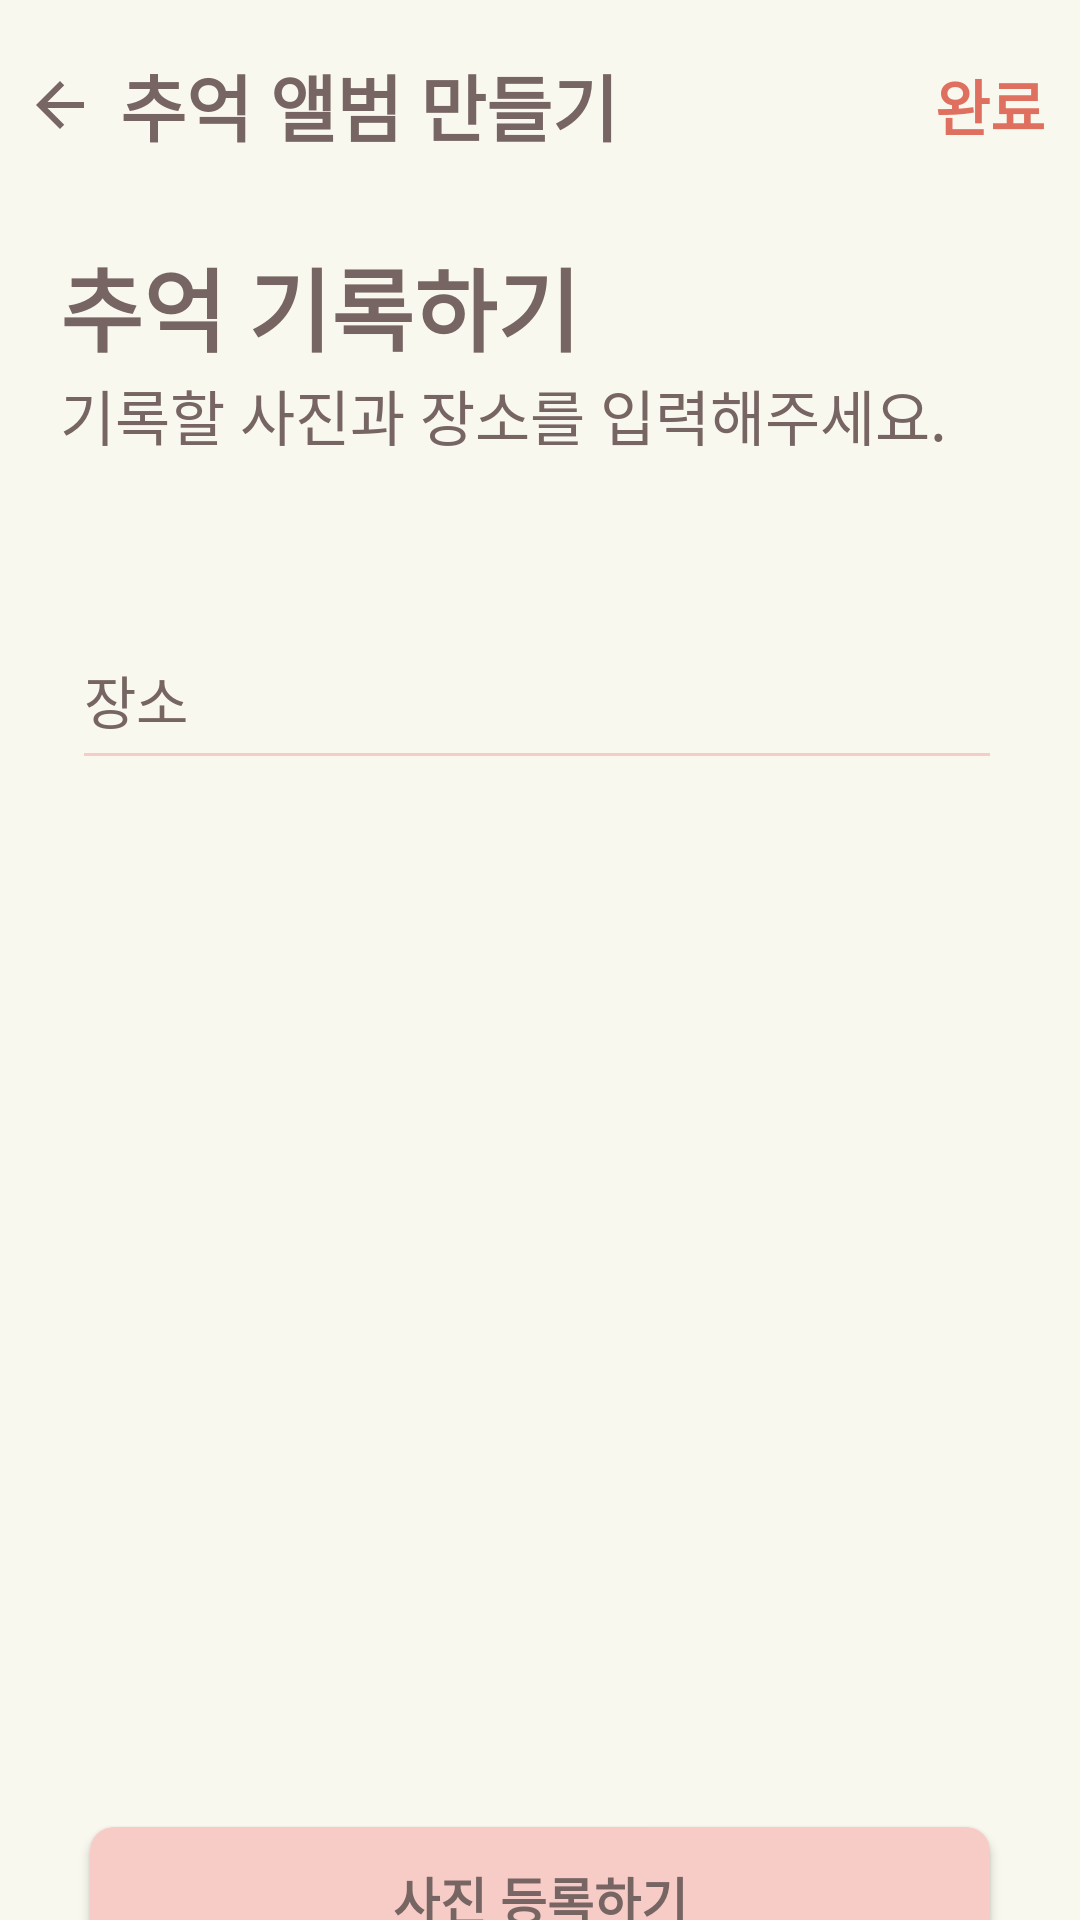

Locate icon controls on the screen. Image size 1080x1920, boxes as (x1, y1, x2, y2).
arrow back: (36, 81, 84, 129)
